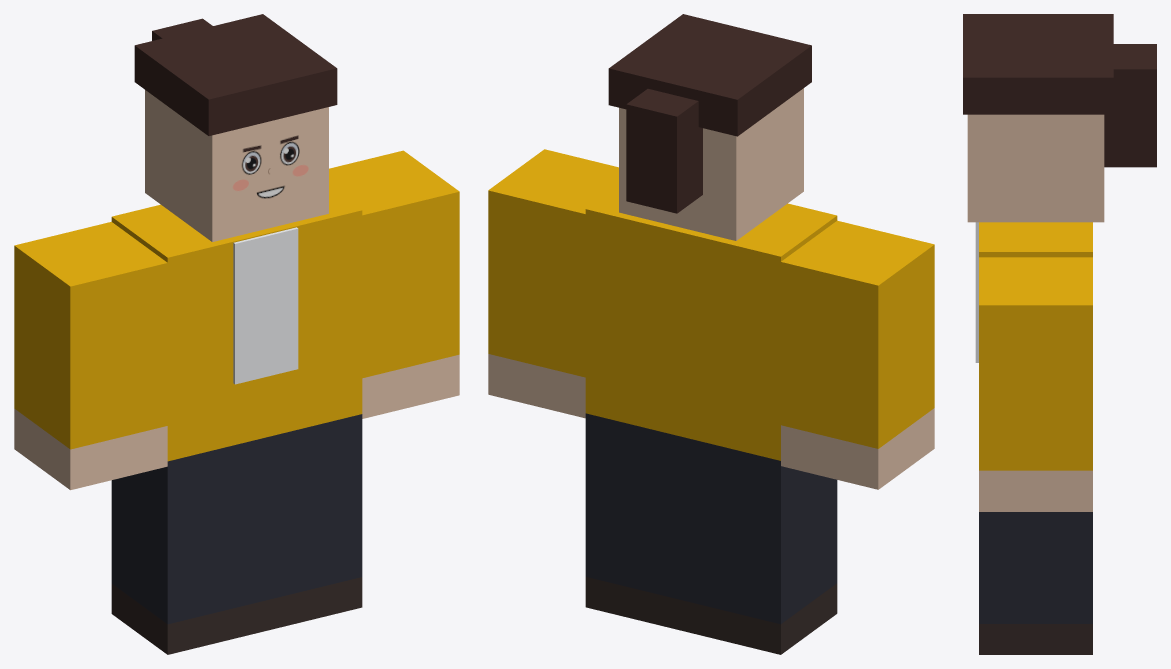
Rendered from Mia_full.glb.
3 views of the same model, side by side, from view 1: azimuth 30°, elevation 25°; view 2: azimuth 150°, elevation 25°; view 3: azimuth 270°, elevation 25° (orthographic).
Parts seen in each view (by area): view 1: UpperTorso, Head, LeftUpperArm, Hair_Crown, RightUpperArm, LeftLowerLeg, LeftLowerArm, LowerTorso, LeftUpperLeg, InnerShirtCollar, RightUpperLeg, RightLowerArm (+5 smaller); view 2: UpperTorso, LeftUpperArm, Hair_Crown, RightUpperArm, Head, LeftLowerLeg, LeftLowerArm, LowerTorso, LeftUpperLeg, Hair_Ponytail, RightUpperLeg, RightLowerLeg (+5 smaller); view 3: Hair_Crown, Head, RightUpperArm, RightLowerArm, RightLowerLeg, Hair_Ponytail, RightHand, UpperTorso, RightFoot, RightUpperLeg, InnerShirtCollar.
Part boxes in pixels (left/top/right/bottom): UpperTorso: left=111, top=186, right=362, bottom=400; Head: left=145, top=90, right=328, bottom=241; LeftUpperArm: left=14, top=222, right=167, bottom=367; Hair_Crown: left=134, top=14, right=337, bottom=135; RightUpperArm: left=329, top=150, right=459, bottom=296; LeftLowerLeg: left=111, top=502, right=264, bottom=624; LeftLowerArm: left=14, top=327, right=167, bottom=449; LowerTorso: left=167, top=353, right=362, bottom=461; LeftUpperLeg: left=111, top=438, right=264, bottom=542; InnerShirtCollar: left=233, top=227, right=298, bottom=384; RightUpperLeg: left=265, top=414, right=362, bottom=518; RightLowerArm: left=362, top=273, right=459, bottom=378; UpperTorso: left=585, top=185, right=837, bottom=399; LeftUpperArm: left=781, top=220, right=934, bottom=367; Hair_Crown: left=608, top=14, right=811, bottom=136; RightUpperArm: left=488, top=149, right=618, bottom=295; Head: left=619, top=88, right=803, bottom=240; LeftLowerLeg: left=683, top=501, right=837, bottom=624; LeftLowerArm: left=781, top=326, right=934, bottom=448; LowerTorso: left=585, top=352, right=780, bottom=460; LeftUpperLeg: left=683, top=437, right=837, bottom=542; Hair_Ponytail: left=626, top=89, right=702, bottom=213; RightUpperLeg: left=585, top=413, right=683, bottom=518; RightLowerLeg: left=585, top=495, right=683, bottom=600; Hair_Crown: left=963, top=14, right=1113, bottom=114; Head: left=967, top=114, right=1104, bottom=222; RightUpperArm: left=979, top=257, right=1092, bottom=387; RightLowerArm: left=979, top=388, right=1092, bottom=470; RightLowerLeg: left=979, top=541, right=1092, bottom=623; Hair_Ponytail: left=1104, top=44, right=1156, bottom=167; RightHand: left=979, top=470, right=1092, bottom=511; UpperTorso: left=979, top=222, right=1092, bottom=257; RightFoot: left=979, top=624, right=1092, bottom=654; RightUpperLeg: left=979, top=512, right=1092, bottom=541; InnerShirtCollar: left=975, top=222, right=978, bottom=362.
Bounding box in the file's own units: 4 × 5.43 × 1.7.
1 material, 1 textured.
